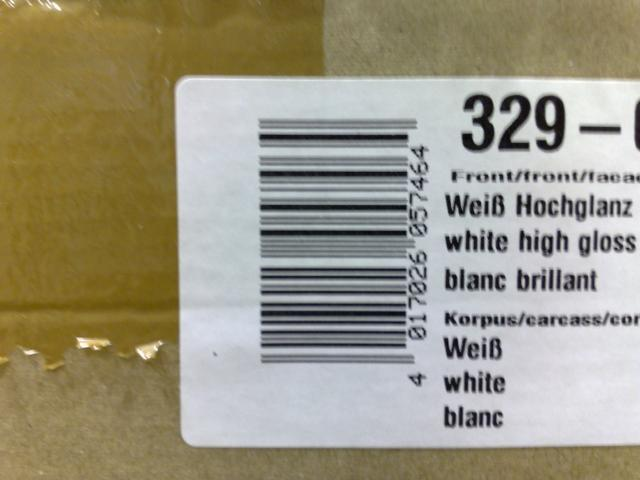Barcode: (256, 110, 434, 397)
